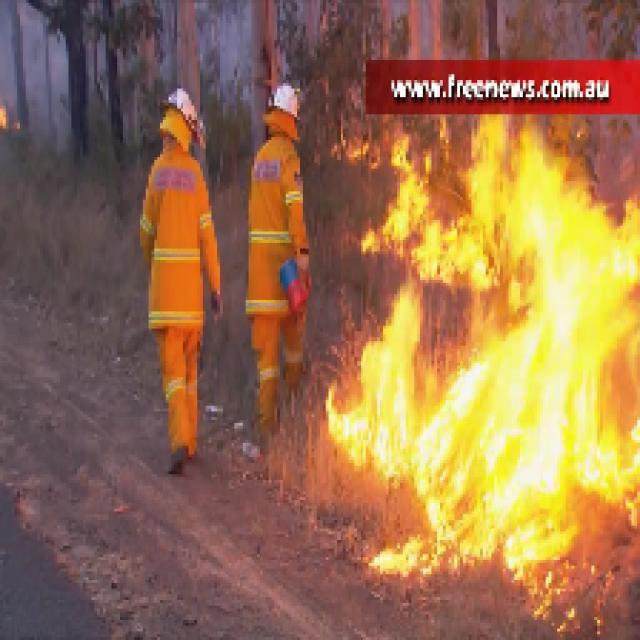Fire: (324, 127, 632, 586)
